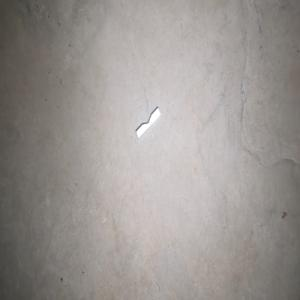ClampPart: (135, 106, 161, 139)
